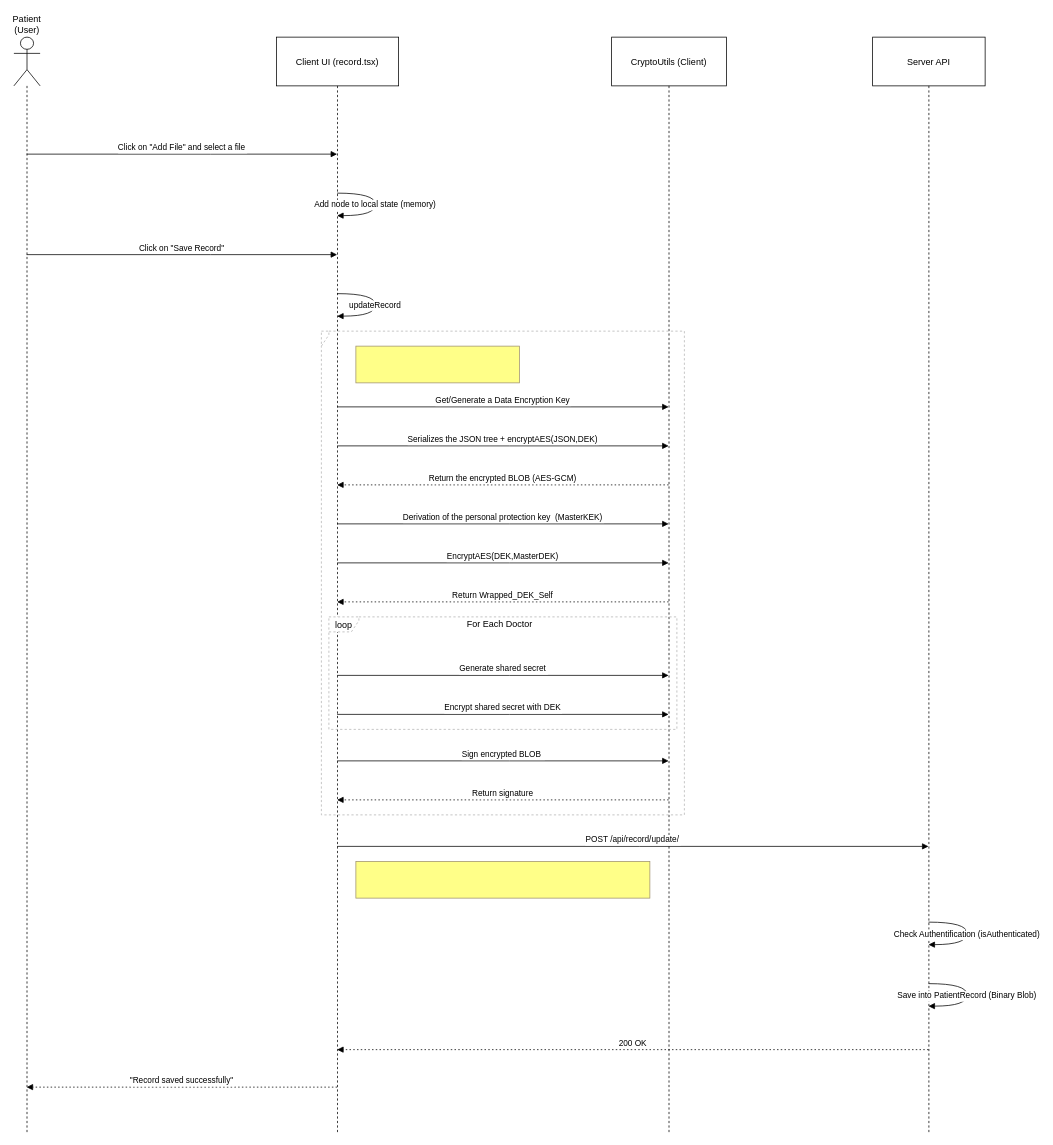
Image size: 1053x1145. Some labels were removed from this diagram. The centre of each missing label's shape, as x and y in pixels:
Encryption phase (E2EE): point 437,364
Payload: {encrypted_data, encrypted_deks, signature}: point 502,879
